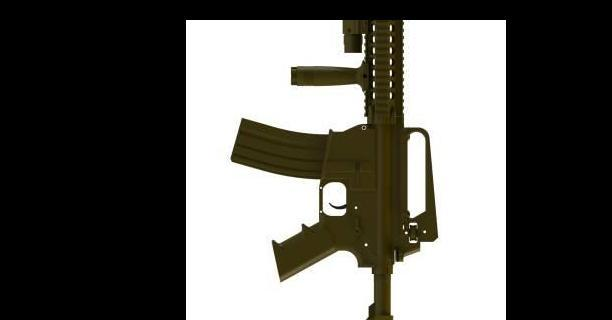larga: (231, 21, 438, 320)
